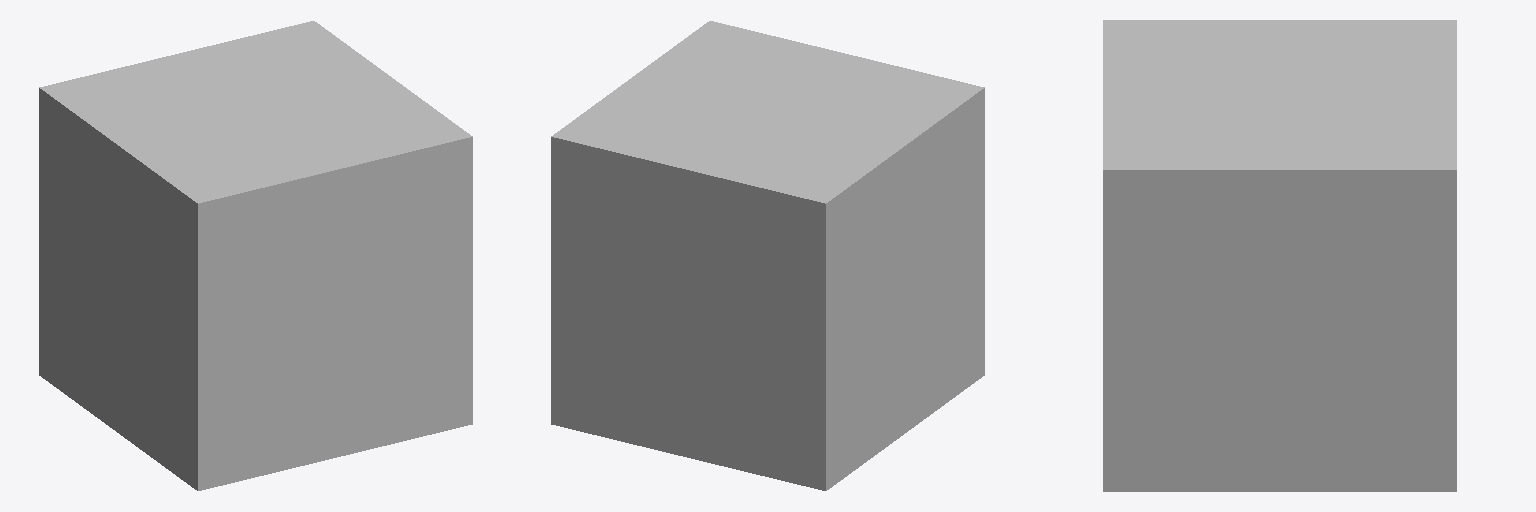
URDF robot description (simpleHoverBot):
<?xml version="1.0" ?>
<!-- =================================================================================== -->
<!-- |    This document was autogenerated by xacro from ROShover.urdf.xacro            | -->
<!-- |    EDITING THIS FILE BY HAND IS NOT RECOMMENDED                                 | -->
<!-- =================================================================================== -->
<robot name="simpleHoverBot" xmlns:xacro="http://www.ros.org/wiki/xacro">
  <!--Properties of the robot-->
  <!--Create the visual element for a box-->
  <!--Create a small inertial element-->
  <!--Inertial element for a box-->
  <!--Creates a link in the form of a box-->
  <!--Creates a transmission at a joint.-->
  <link name="base_link"/>
  <link name="Z_link">
    <inertial>
      <mass value="0.0001"/>
      <inertia ixx="0.0001" ixy="0" ixz="0" iyy="0.0001" iyz="0" izz="0.0001"/>
    </inertial>
  </link>
  <link name="X_link">
    <inertial>
      <mass value="0.0001"/>
      <inertia ixx="0.0001" ixy="0" ixz="0" iyy="0.0001" iyz="0" izz="0.0001"/>
    </inertial>
  </link>
  <link name="final_link">
    <inertial>
      <mass value="10"/>
      <inertia ixx="0.15" ixy="0" ixz="0" iyy="0.15" iyz="0" izz="0.15"/>
    </inertial>
    <visual>
      <origin rpy="0 0 0" xyz="0 0 0"/>
      <geometry>
        <box size="0.3 0.3 0.3"/>
      </geometry>
      <material name="grey">
        <color rgba=".8 .8 .8 1"/>
      </material>
    </visual>
    <!--<collision>
        <origin xyz="0 0 0" rpy="0 0 0"/>
        <geometry>
           <sphere radius="0"/>
        </geometry>
      </collision>-->
  </link>
  <joint name="Z" type="prismatic">
    <parent link="base_link"/>
    <child link="Z_link"/>
    <axis xyz="0 0 1"/>
    <limit effort="200" lower="-100" upper="100" velocity="30.0"/>
  </joint>
  <joint name="X" type="prismatic">
    <parent link="Z_link"/>
    <child link="X_link"/>
    <axis xyz="1 0 0"/>
    <limit effort="200" lower="-100" upper="100" velocity="30.0"/>
  </joint>
  <joint name="Theta" type="continuous">
    <parent link="X_link"/>
    <child link="final_link"/>
    <axis xyz="0 1 0"/>
  </joint>
  <transmission name="Z_act" type="SimpleTransmission">
    <actuator name="Z_tranny"/>
    <joint name="Z"/>
    <mechanicalReduction>1</mechanicalReduction>
  </transmission>
  <transmission name="X_act" type="SimpleTransmission">
    <actuator name="X_tranny"/>
    <joint name="X"/>
    <mechanicalReduction>1</mechanicalReduction>
  </transmission>
  <transmission name="Theta_act" type="SimpleTransmission">
    <actuator name="Theta_tranny"/>
    <joint name="Theta"/>
    <mechanicalReduction>1</mechanicalReduction>
  </transmission>
</robot>

--- What the picture shows (computed from the rendered views, not written in the file) ---
The picture shows the robot from 3 angles, left to right: view 1: azimuth 30°, elevation 25°; view 2: azimuth 150°, elevation 25°; view 3: azimuth 270°, elevation 25°; orthographic projection.
Robot: simpleHoverBot — 4 links, 3 joints (1 continuous, 2 prismatic); root link base_link; default pose: all joints at 0.
Links seen in each view (by area): view 1: final_link; view 2: final_link; view 3: final_link.
Link boxes in pixels (box(x1,y1,x2,y2)): final_link: box(39, 21, 472, 490); final_link: box(551, 21, 984, 490); final_link: box(1103, 20, 1456, 491).
Size in the robot's own frame: 0.3 by 0.3 by 0.3 metres.
Geometry: primitives only (box / cylinder / sphere), no mesh files.